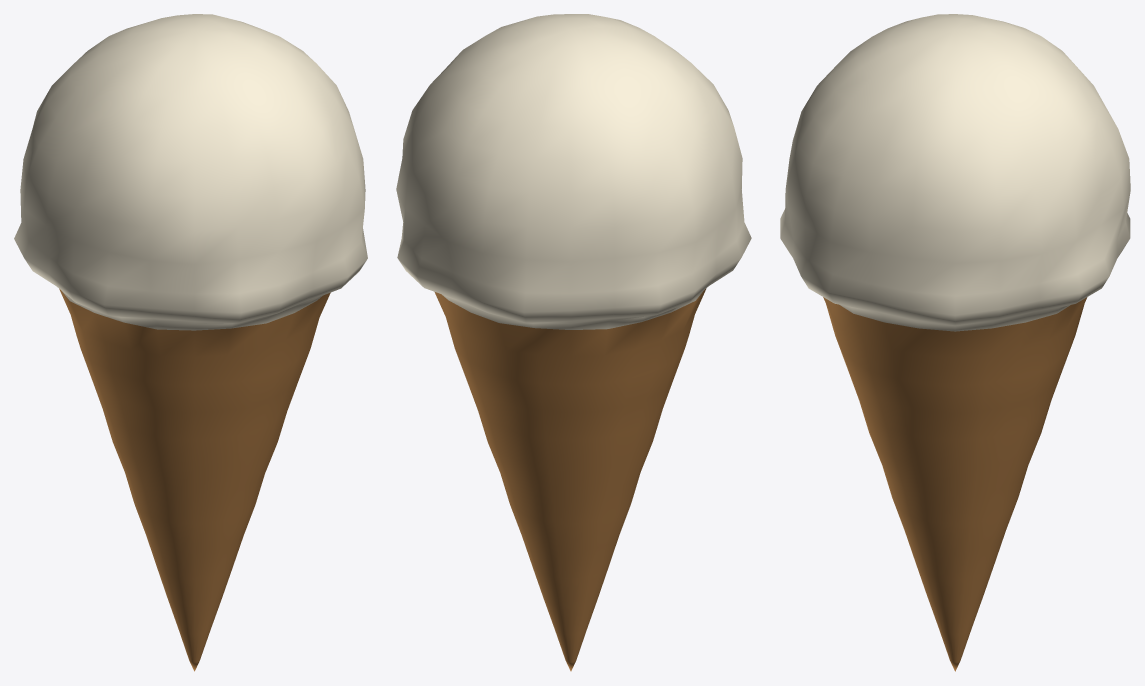
The model's file is NEW_RECOVERY_002_LOD2.glb.
3 renders of one model, left to right at view 1: azimuth 30°, elevation 25°; view 2: azimuth 150°, elevation 25°; view 3: azimuth 270°, elevation 25°, orthographic.
Parts seen in each view (by area): view 1: NEW_RECOVERY_002_LOD2; view 2: NEW_RECOVERY_002_LOD2; view 3: NEW_RECOVERY_002_LOD2.
Boxes of the visible parts, x1,y1,x2,y2 form: NEW_RECOVERY_002_LOD2: (14, 14, 367, 671); NEW_RECOVERY_002_LOD2: (396, 14, 751, 671); NEW_RECOVERY_002_LOD2: (780, 14, 1130, 671).
Bounding box in the file's own units: 0.1593 × 0.32 × 0.1584.
